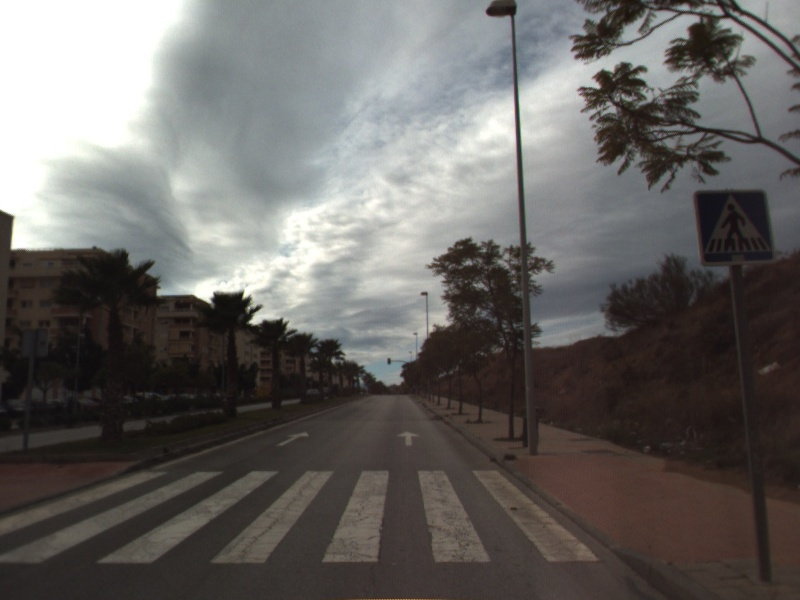STRAIGHT: (275, 429, 312, 448), (395, 429, 421, 448)
